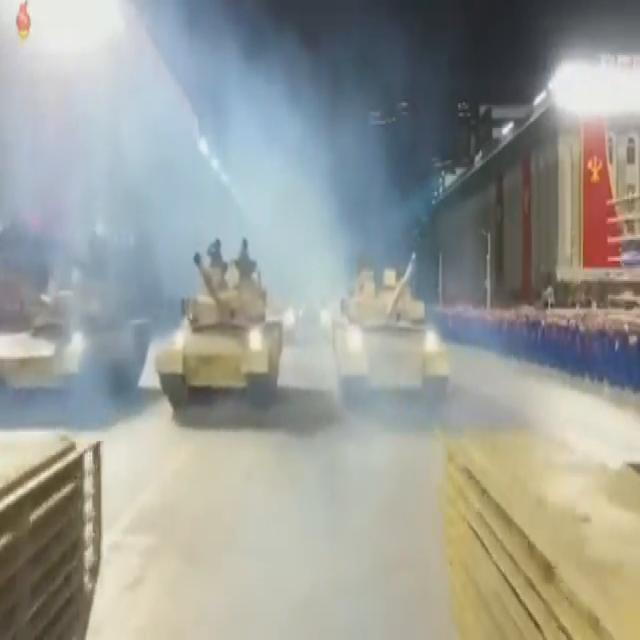north tank: (142, 204, 288, 410), (326, 219, 462, 424)
